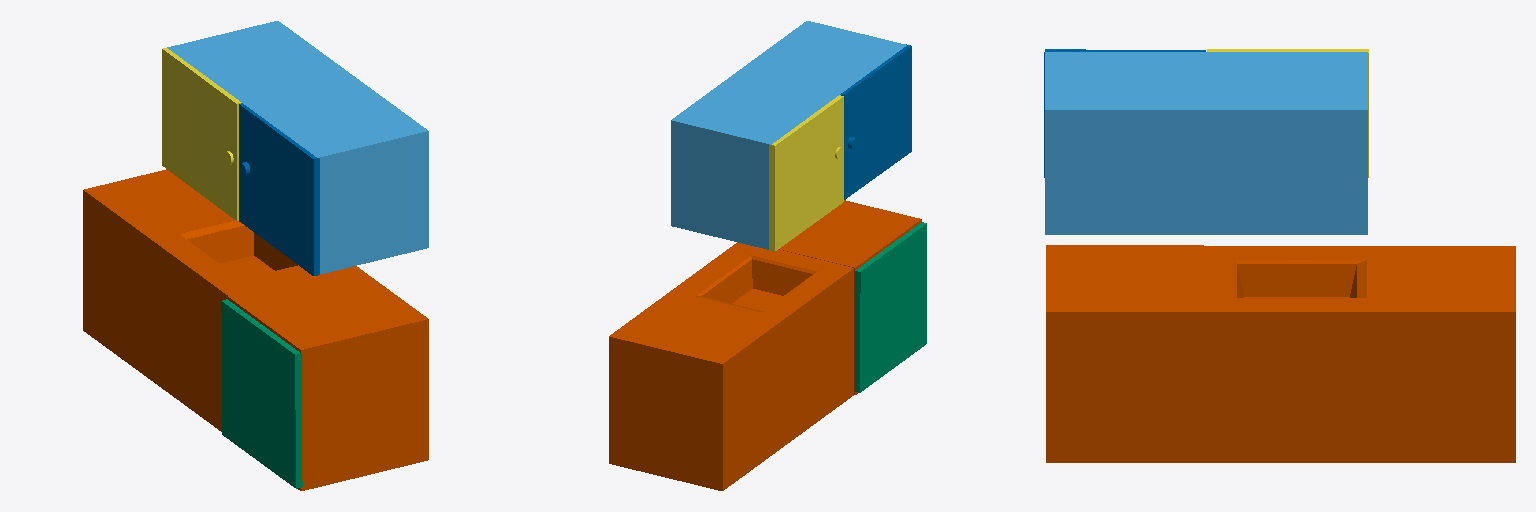
robot.urdf — kitchen:
<?xml version="1.0" ?>
<robot name="kitchen">
  <link name="root"></link>
  <link name="cupboard">
    <visual>
      <origin rpy="0 0 0" xyz="0 0 0" />
      <geometry>
        <mesh filename="package://motion_bench_maker/configs/scenes/kitchen/meshes/cupboard.stl" />
      </geometry>
    </visual>
    <collision>
      <origin rpy="0 0 0" xyz="0 0 0" />
      <geometry>
        <mesh filename="package://motion_bench_maker/configs/scenes/kitchen/meshes/cupboard.stl" />
      </geometry>
    </collision>
  </link>
  <link name="dishwasher_door">
    <visual>
      <origin rpy="0 0 0" xyz="0 0 0" />
      <geometry>
        <mesh filename="package://motion_bench_maker/configs/scenes/kitchen/meshes/dishwasher_door.stl" />
      </geometry>
    </visual>
    <collision>
      <origin rpy="0 0 0" xyz="0 0 0" />
      <geometry>
        <mesh filename="package://motion_bench_maker/configs/scenes/kitchen/meshes/dishwasher_door.stl" />
      </geometry>
    </collision>
  </link>
  <joint name="dishwasher_door_joint" type="revolute">
    <origin rpy="0 0 0" xyz="0.33637 -0.72851 0.030766" />
    <parent link="cupboard" />
    <child link="dishwasher_door" />
    <axis xyz="0 1 0" />
  <limit effort="0.32" lower="-1.57" upper="0" velocity="1.57" />
  </joint>
  <link name="cupboard_door_l">
    <visual>
      <origin rpy="0 0 0" xyz="0 0 0" />
      <geometry>
        <mesh filename="package://motion_bench_maker/configs/scenes/kitchen/meshes/cupboard_door_l.stl" />
      </geometry>
    </visual>
    <collision>
      <origin rpy="0 0 0" xyz="0 0 0" />
      <geometry>
        <mesh filename="package://motion_bench_maker/configs/scenes/kitchen/meshes/cupboard_door_l.stl" />
      </geometry>
    </collision>
  </link>
  <joint name="cupboard_door_l_joint" type="revolute">
    <origin rpy="0 0 0" xyz="0.44637 0.54793 1.6839" />
    <parent link="cupboard" />
    <child link="cupboard_door_l" />
    <axis xyz="0 0 1" />
  <limit effort="0.32" lower="-3.14" upper="0.0" velocity="1.57" />
  </joint>
  <link name="cupboard_door_r">
    <visual>
      <origin rpy="0 0 0" xyz="0 0 0" />
      <geometry>
        <mesh filename="package://motion_bench_maker/configs/scenes/kitchen/meshes/cupboard_door_r.stl" />
      </geometry>
    </visual>
    <collision>
      <origin rpy="0 0 0" xyz="0 0 0" />
      <geometry>
        <mesh filename="package://motion_bench_maker/configs/scenes/kitchen/meshes/cupboard_door_r.stl" />
      </geometry>
    </collision>
  </link>
  <joint name="cupboard_door_r_joint" type="revolute">
    <origin rpy="0 0 0" xyz="0.44637 -1.1497 1.6839" />
    <parent link="cupboard" />
    <child link="cupboard_door_r" />
    <axis xyz="0 0 1" />
  <limit effort="0.32" lower="0.0" upper="3.14" velocity="1.57" />
  </joint>
  <link name="kitchen_counter">
    <visual>
      <origin rpy="0 0 0" xyz="0 0 0" />
      <geometry>
        <mesh filename="package://motion_bench_maker/configs/scenes/kitchen/meshes/kitchen_counter.stl" />
      </geometry>
    </visual>
    <collision>
      <origin rpy="0 0 0" xyz="0 0 0" />
      <geometry>
        <mesh filename="package://motion_bench_maker/configs/scenes/kitchen/meshes/kitchen_counter.stl" />
      </geometry>
    </collision>
  </link>
  <joint name="cupboard_joint" type="fixed">
    <origin rpy="0 0 0" xyz="0 0 0" />
    <parent link="root" />
    <child link="cupboard" />
    <axis xyz="0 1 0" />
  </joint>
  <joint name="kitchen_counter_joint" type="fixed">
    <origin rpy="0 0 0" xyz="0 0 0" />
    <parent link="root" />
    <child link="kitchen_counter" />
    <axis xyz="0 1 0" />
  </joint>
</robot>

--- What the picture shows (computed from the rendered views, not written in the file) ---
3 views of the same robot in one strip: view 1: azimuth 30°, elevation 25°; view 2: azimuth 150°, elevation 25°; view 3: azimuth 270°, elevation 25° (orthographic).
Model kitchen with 6 links and 5 joints (3 revolute, 2 fixed), rooted at root, posed every joint at zero.
Links seen in each view (by area): view 1: kitchen_counter, cupboard, dishwasher_door, cupboard_door_r, cupboard_door_l; view 2: kitchen_counter, cupboard, dishwasher_door, cupboard_door_l, cupboard_door_r; view 3: kitchen_counter, cupboard, cupboard_door_l.
Boxes of the visible links, x1,y1,x2,y2 form: kitchen_counter: [83, 169, 428, 490]; cupboard: [167, 21, 428, 273]; dishwasher_door: [221, 299, 302, 488]; cupboard_door_r: [239, 103, 319, 275]; cupboard_door_l: [162, 48, 241, 220]; kitchen_counter: [609, 200, 921, 490]; cupboard: [671, 21, 906, 249]; dishwasher_door: [855, 222, 926, 392]; cupboard_door_l: [769, 95, 843, 251]; cupboard_door_r: [840, 44, 911, 199]; kitchen_counter: [1046, 245, 1515, 462]; cupboard: [1045, 52, 1367, 234]; cupboard_door_l: [1207, 49, 1368, 177].
Bounding box of the posed robot: 0.866 × 2.47 × 2.04 m (x, y, z).
Meshes: 5 distinct files referenced, 5 mesh visuals loaded (5 binary STL).